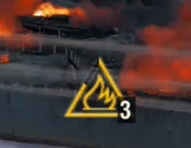3fire: (61, 82, 136, 125)
